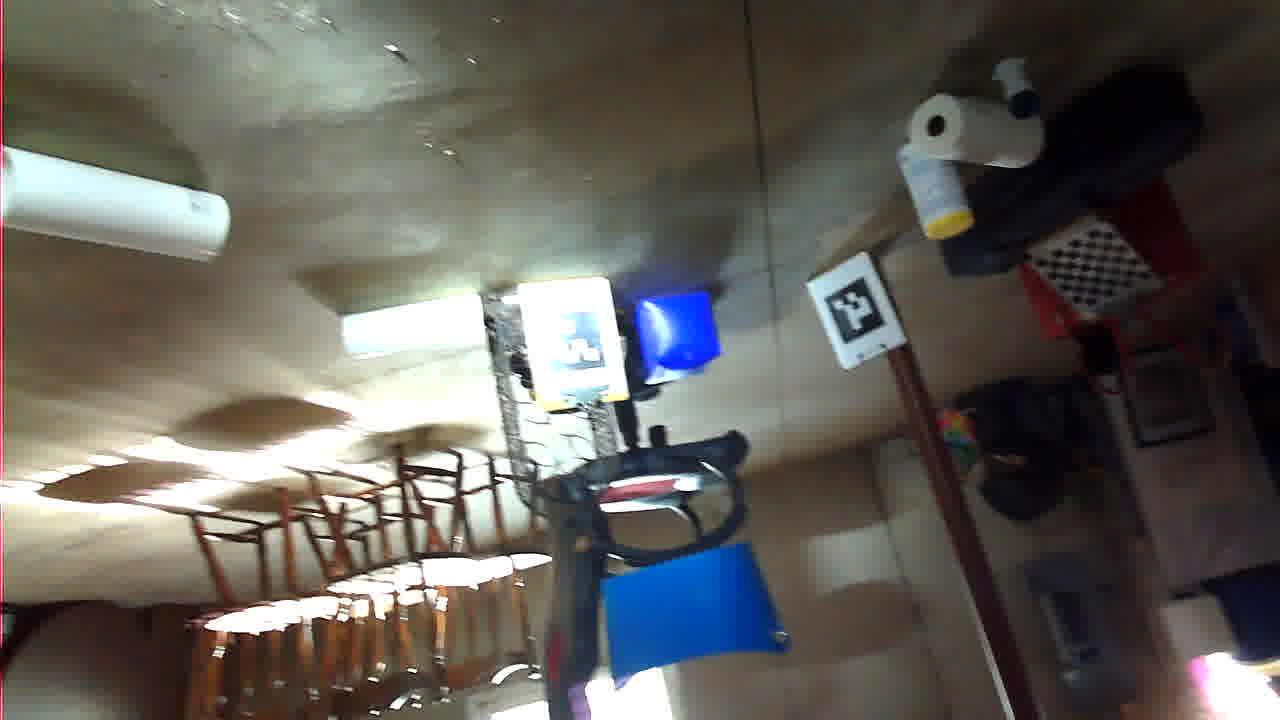coral: (1051, 459, 1276, 577), (796, 362, 940, 425)
